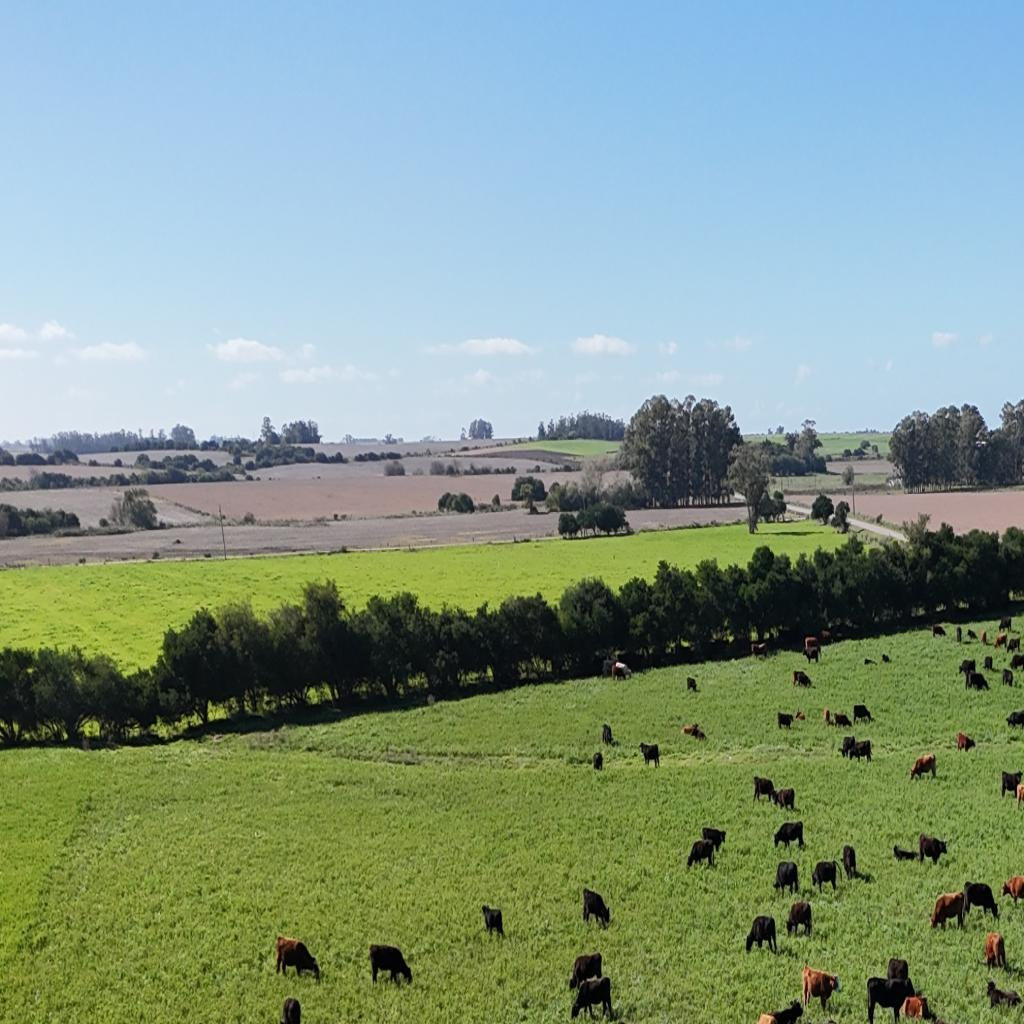cow: (867, 975, 914, 1023), (276, 935, 320, 981), (802, 964, 841, 1015), (570, 975, 613, 1021), (369, 944, 413, 987), (963, 881, 998, 922), (929, 892, 965, 930), (569, 952, 602, 992), (757, 998, 804, 1024), (582, 886, 610, 928), (746, 916, 776, 954), (987, 978, 1022, 1010), (773, 820, 804, 852), (786, 901, 812, 939), (686, 838, 716, 870), (984, 932, 1009, 970), (910, 1004, 959, 1023), (919, 834, 948, 866), (774, 859, 800, 894), (812, 860, 838, 892), (910, 752, 937, 781), (482, 904, 504, 938), (1000, 876, 1024, 907), (701, 826, 727, 854), (887, 957, 911, 984), (1000, 770, 1023, 798), (753, 776, 775, 804), (280, 996, 302, 1024), (849, 739, 873, 762), (773, 787, 796, 811), (640, 742, 660, 768), (842, 844, 856, 881), (967, 671, 990, 692), (682, 722, 706, 740), (853, 704, 873, 724), (956, 732, 976, 752), (894, 844, 918, 860), (804, 637, 820, 660), (1005, 710, 1023, 730), (958, 659, 976, 679), (840, 736, 856, 758), (792, 669, 811, 687), (833, 712, 852, 729), (750, 642, 767, 659), (602, 723, 614, 746), (778, 713, 794, 730), (998, 616, 1012, 633), (1002, 668, 1014, 687), (592, 750, 602, 772), (995, 633, 1008, 649), (602, 660, 613, 678), (932, 624, 946, 638), (1014, 710, 1024, 728), (820, 630, 831, 645), (687, 677, 697, 692), (984, 656, 994, 671), (1016, 653, 1024, 671), (1015, 637, 1024, 653), (967, 629, 978, 640), (981, 630, 988, 646), (956, 626, 962, 643), (824, 708, 830, 724), (881, 653, 890, 663), (864, 658, 875, 666), (796, 710, 804, 721)
